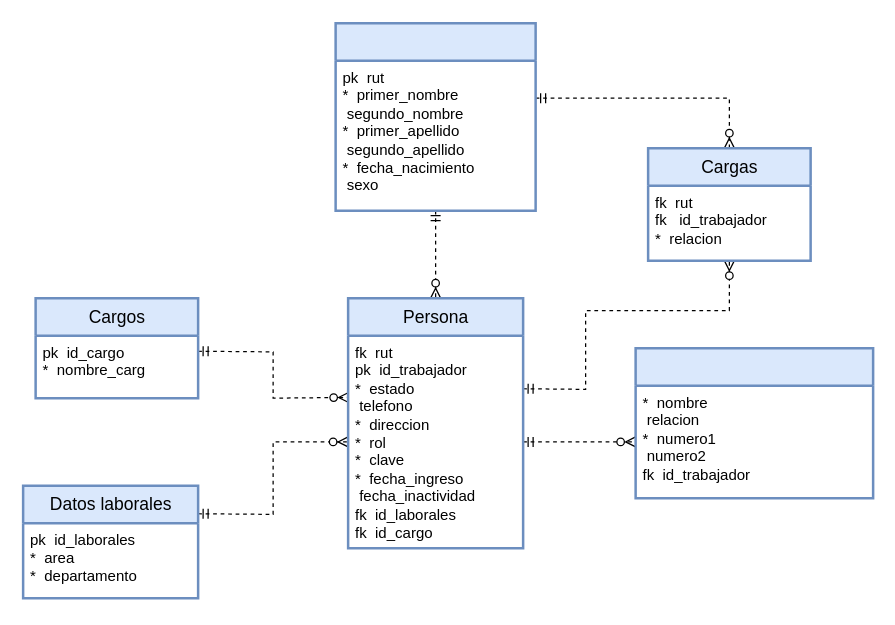
Image size: 895x625. Some labels were removed from this diagram. The box of each missing label's shape, as (x1, y1, x2, y2) in pixels:
Contactos emergencia: (634, 346, 874, 499)
Personas: (334, 21, 536, 211)
